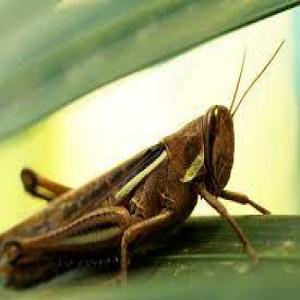locust: (4, 99, 266, 288)
